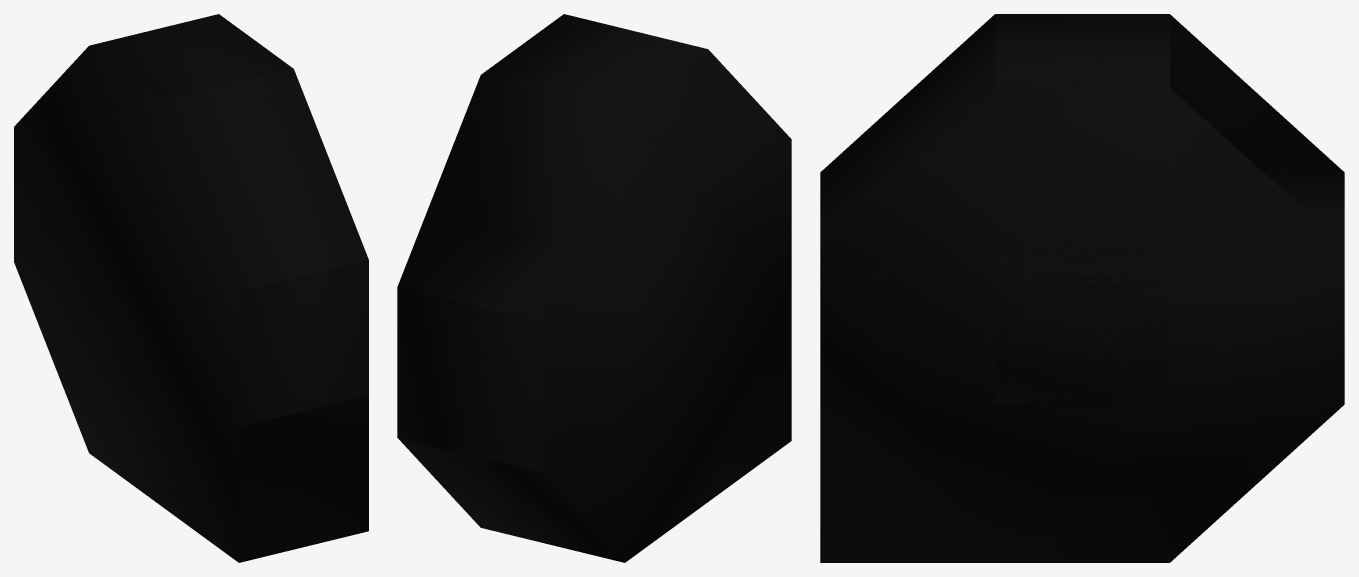
3 views of the same model, side by side, from view 1: azimuth 30°, elevation 25°; view 2: azimuth 150°, elevation 25°; view 3: azimuth 270°, elevation 25° (orthographic). The views are drawn at different scales.
Size of the model in its own units: 0.24 by 0.72 by 0.72.
1 material, 1 textured.
